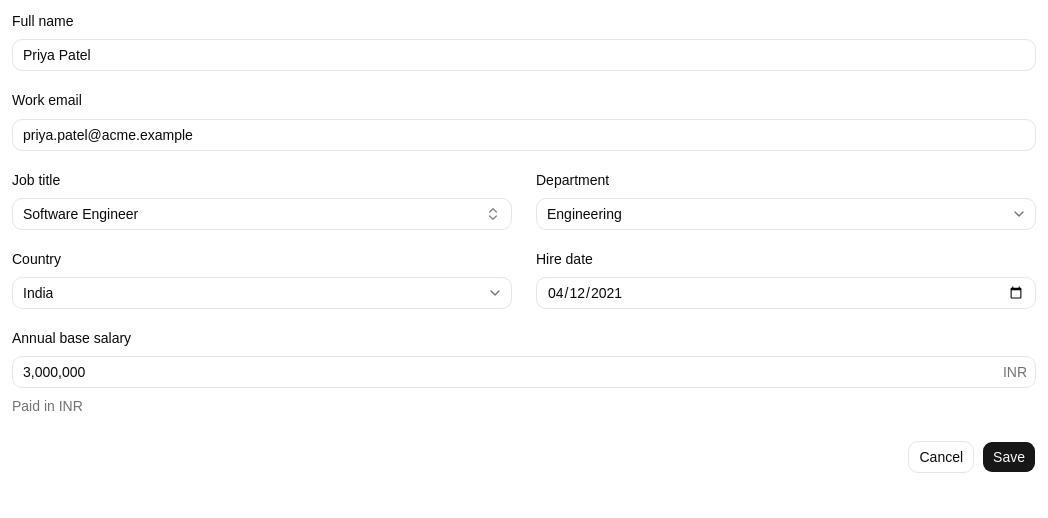
Scenario: EmployeeForm › shows server-side field errors next to the field
This screenshot has width=1048, height=518.
Click the button "Save".
click(1009, 457)  # box [982, 441, 1036, 473]
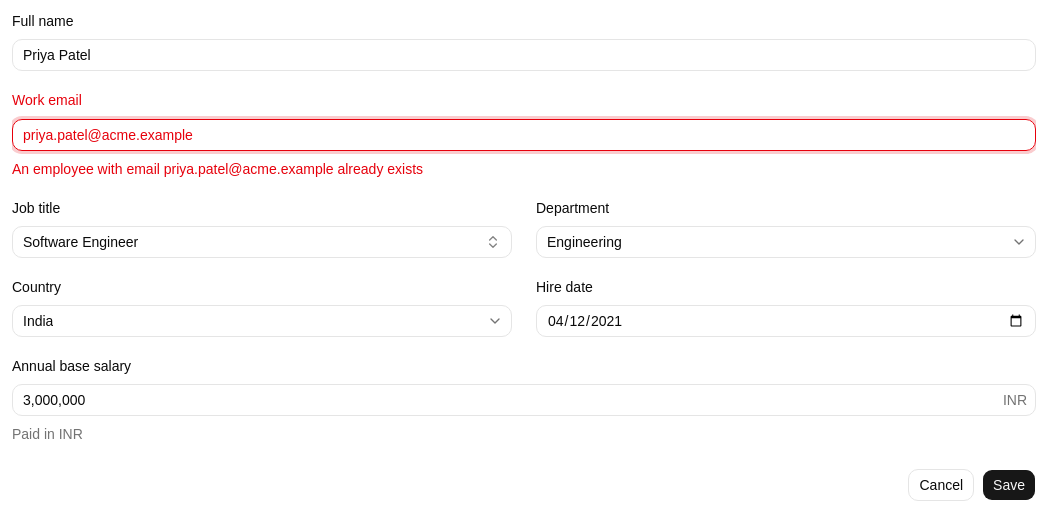
Expected: the text "An employee with email priya.patel@acme.example already exists" is shown, [12, 160, 423, 176]
